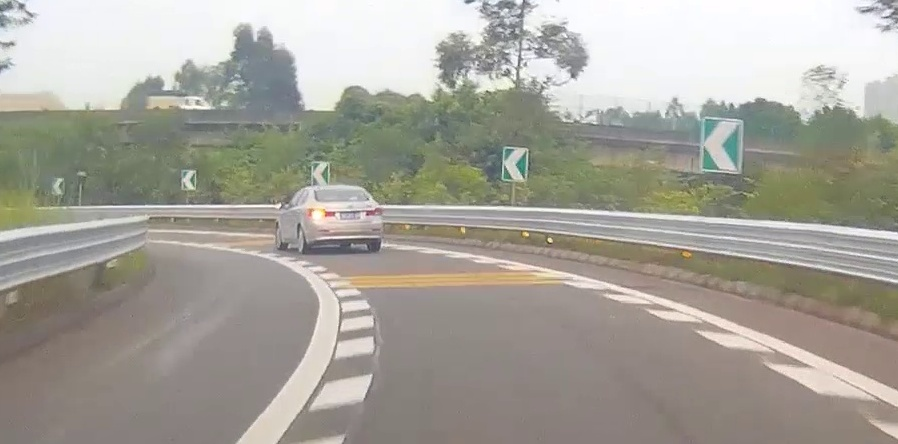L_light: (308, 208, 335, 217)
R_light: (365, 207, 382, 216)
T_light: (337, 188, 348, 190)
day-left: (305, 185, 383, 252)
